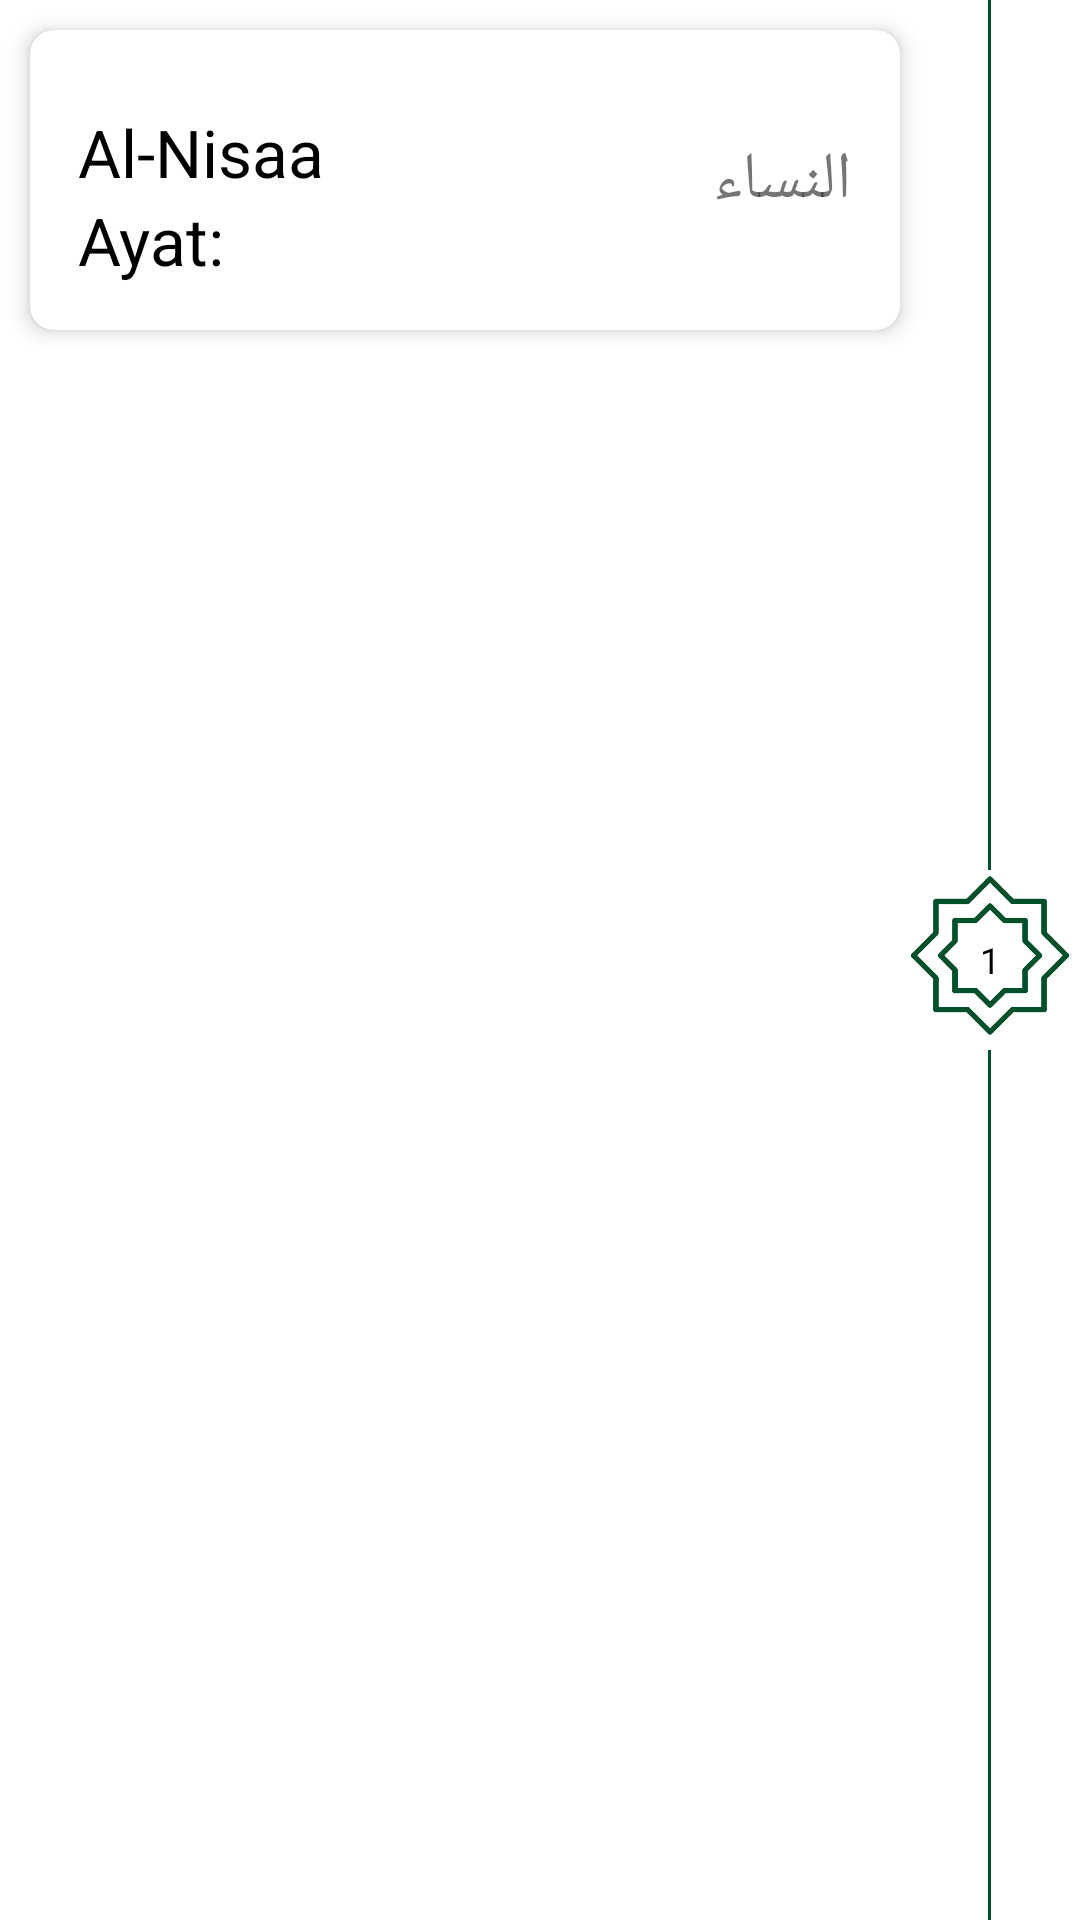

Screen size 1080×1920. Icon name, then its box in pixels as region(x1, y1, x2, y2):
surah num: region(911, 876, 1069, 1035)
